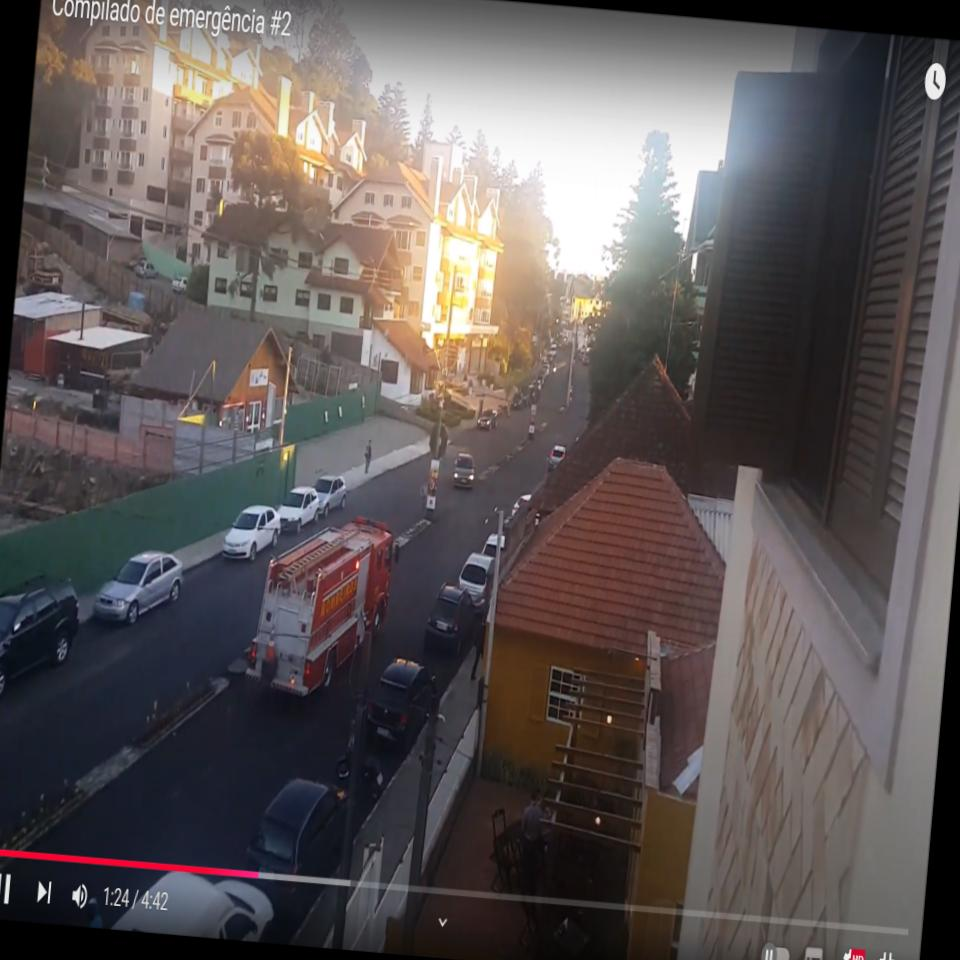viatura: (245, 506, 405, 709)
